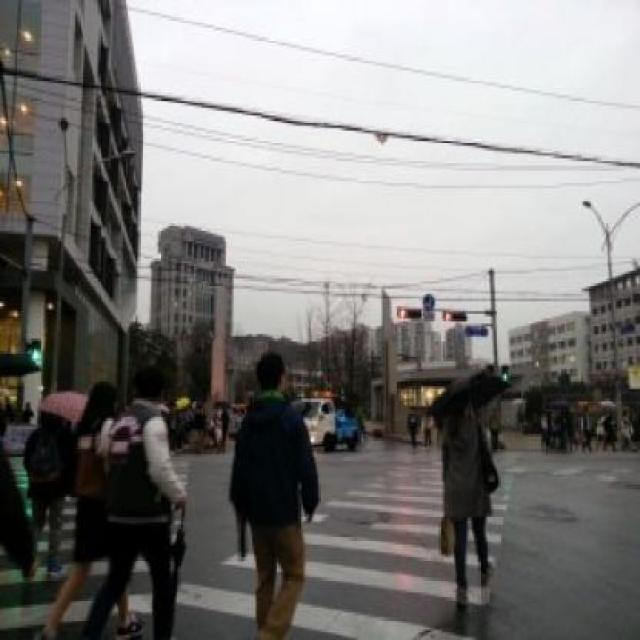Person: (86, 368, 186, 638), (28, 376, 124, 638), (233, 352, 318, 638), (440, 386, 495, 612), (406, 405, 420, 449)
